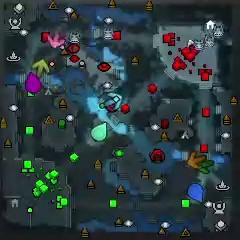p1: (187, 183, 204, 203)
p2: (90, 121, 108, 141)
p3: (24, 72, 40, 93)
x1: (47, 31, 65, 48)
x2: (32, 58, 50, 78)
x3: (103, 92, 123, 111)
x4: (196, 159, 215, 173)
x5: (187, 152, 205, 168)
